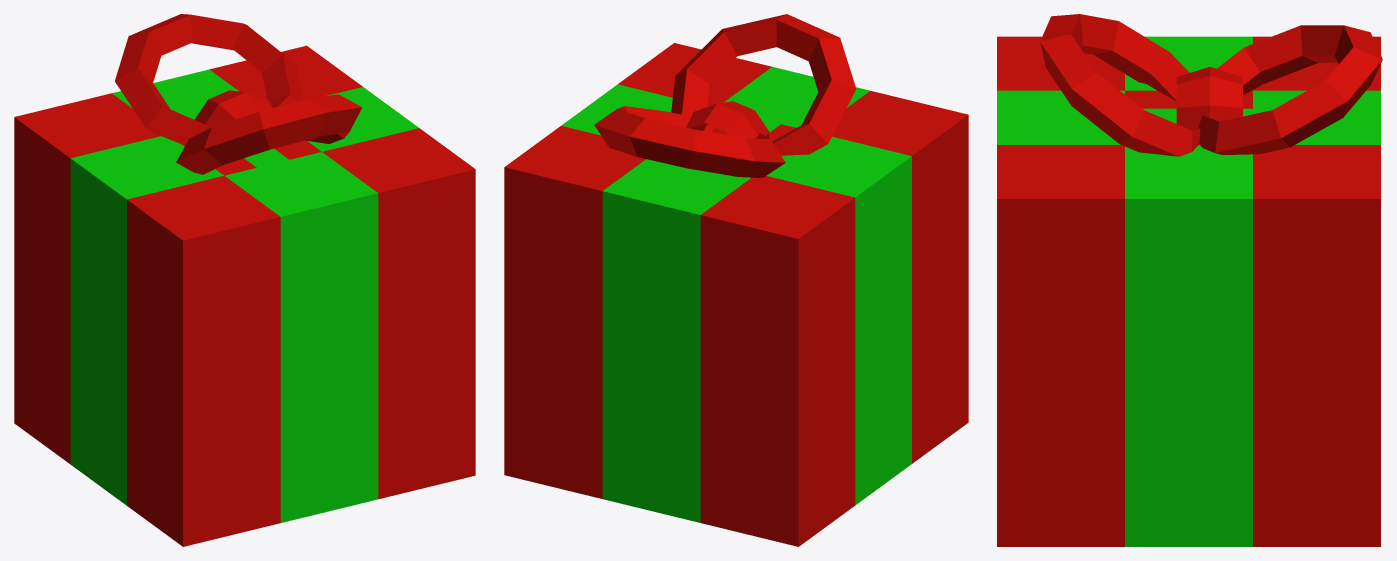
File: present1.fbx
3 renders of one model, left to right at view 1: azimuth 30°, elevation 25°; view 2: azimuth 150°, elevation 25°; view 3: azimuth 270°, elevation 25°, orthographic. The views are drawn at different scales.
Parts seen in each view (by area): view 1: Cube.001; view 2: Cube.001; view 3: Cube.001.
Part boxes in pixels (x1,y1,x2,y2): Cube.001: [14, 14, 475, 546]; Cube.001: [504, 14, 968, 546]; Cube.001: [997, 14, 1382, 546].
Bounding box in the file's own units: 58.5 × 73.69 × 58.77.
